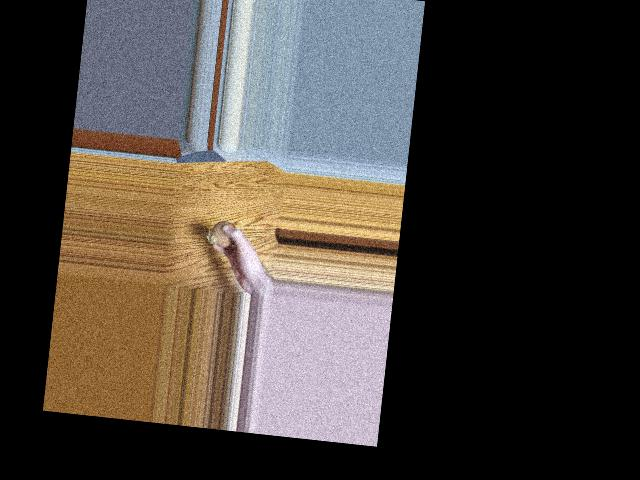onion: (213, 221, 235, 244)
